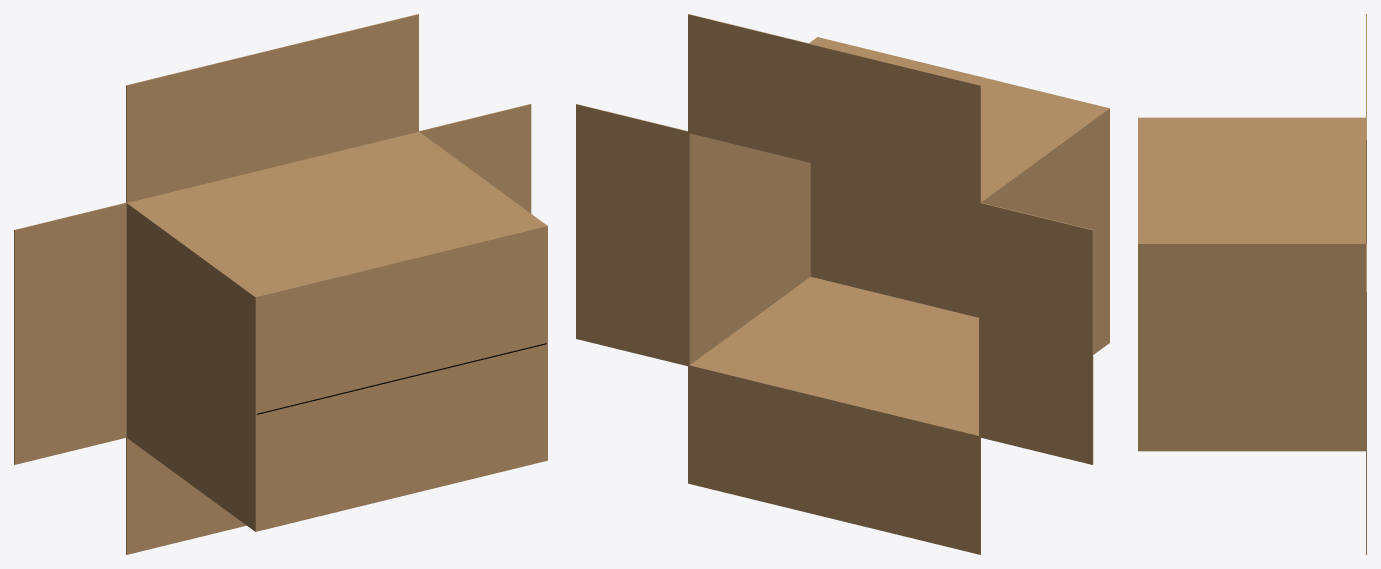
The model's file is Box-open.fbx.
3 views of the same model, side by side, from view 1: azimuth 30°, elevation 25°; view 2: azimuth 150°, elevation 25°; view 3: azimuth 270°, elevation 25° (orthographic). The views are drawn at different scales.
Visible parts, largest first — view 1: Box-open; view 2: Box-open; view 3: Box-open.
Boxes of the visible parts, <box> form: Box-open: <box>14,14,547,554</box>; Box-open: <box>576,14,1109,554</box>; Box-open: <box>1138,14,1366,554</box>.
Bounding box in the file's own units: 10600 × 9200 × 4600.
